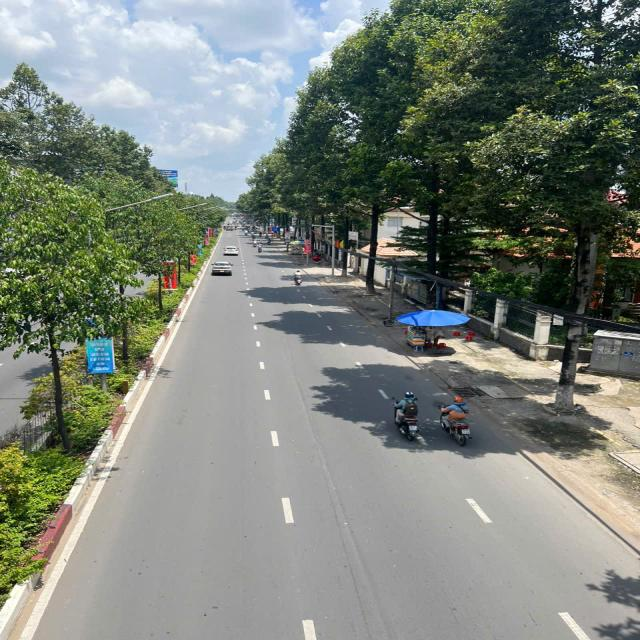car: (207, 256, 238, 279), (219, 242, 242, 258)
motobyte: (387, 387, 429, 449), (434, 392, 476, 450), (288, 266, 306, 288), (253, 241, 266, 256)
